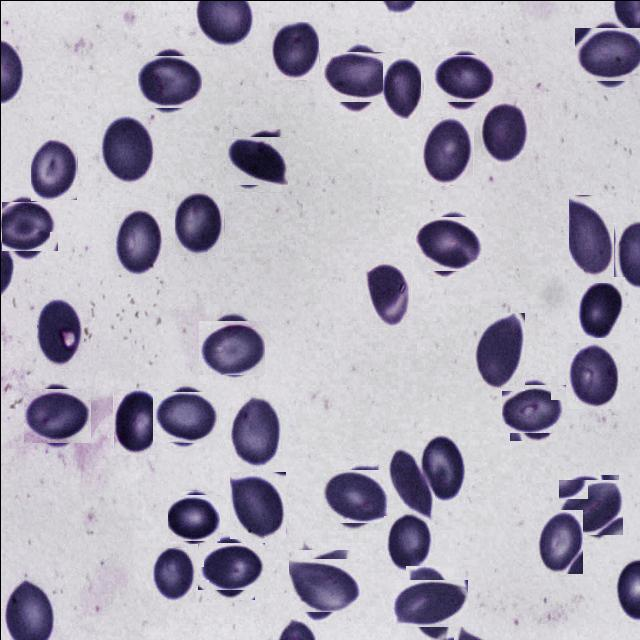red blood cell: (472, 312, 524, 390), (328, 44, 390, 108), (568, 194, 613, 281), (292, 553, 354, 616), (578, 23, 640, 85), (418, 212, 480, 274), (398, 572, 460, 634), (100, 112, 154, 183), (326, 464, 387, 526), (27, 384, 88, 446), (229, 471, 285, 538), (202, 316, 262, 377), (420, 116, 473, 185), (228, 397, 280, 467), (560, 476, 620, 536), (113, 206, 163, 276), (566, 342, 619, 408), (156, 387, 215, 446), (140, 52, 198, 110), (36, 298, 84, 368), (112, 388, 162, 454), (478, 100, 528, 165), (202, 536, 258, 594), (419, 432, 465, 502), (174, 192, 224, 256), (505, 379, 561, 436), (228, 132, 284, 188), (0, 197, 54, 255), (364, 260, 410, 328), (388, 448, 434, 516), (434, 50, 489, 106), (535, 509, 582, 573), (576, 274, 624, 336), (30, 137, 77, 200), (268, 21, 318, 79), (383, 515, 431, 571), (382, 55, 423, 119), (168, 492, 218, 542), (152, 547, 195, 602)
